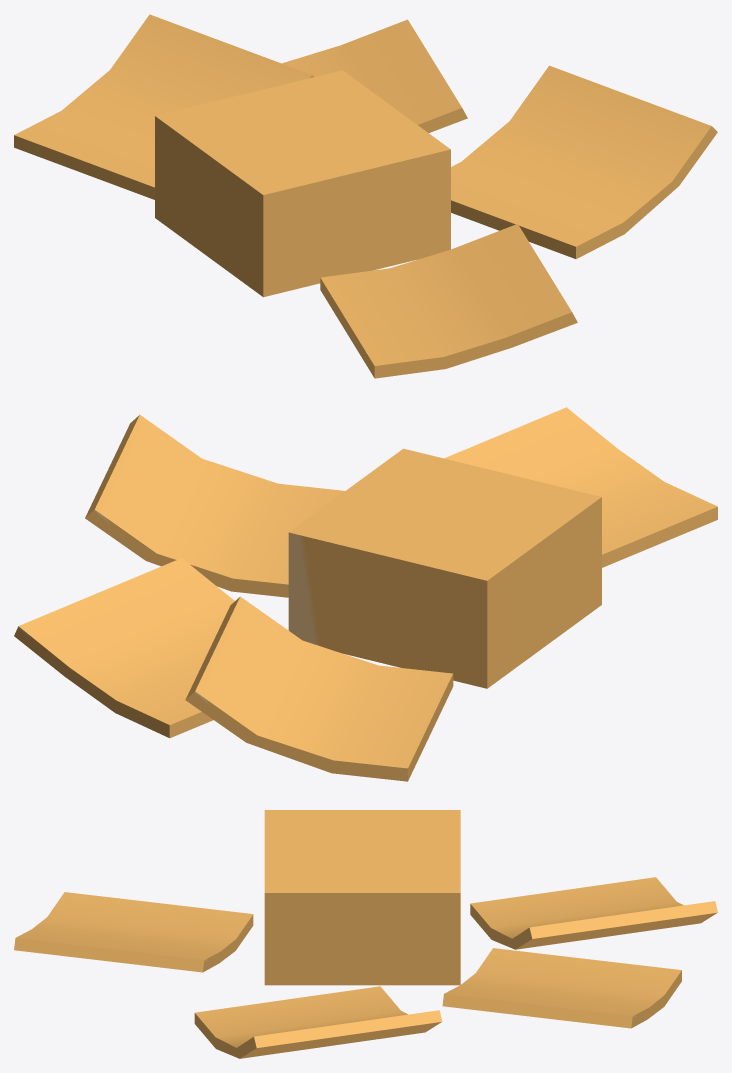
The model's file is Notes.fbx.
3 renders of one model, top to bottom at view 1: azimuth 30°, elevation 25°; view 2: azimuth 150°, elevation 25°; view 3: azimuth 270°, elevation 25°, orthographic. The views are drawn at different scales.
Visible parts, largest first — view 1: Notes; view 2: Notes; view 3: Notes.
Boxes of the visible parts, x1=… form: Notes: x1=14, y1=14, x2=717, y2=378; Notes: x1=14, y1=407, x2=717, y2=781; Notes: x1=14, y1=810, x2=717, y2=1058.
Size of the model in its own units: 20.92 by 4.25 by 29.18.
Materials: 1 (1 with a texture image).
